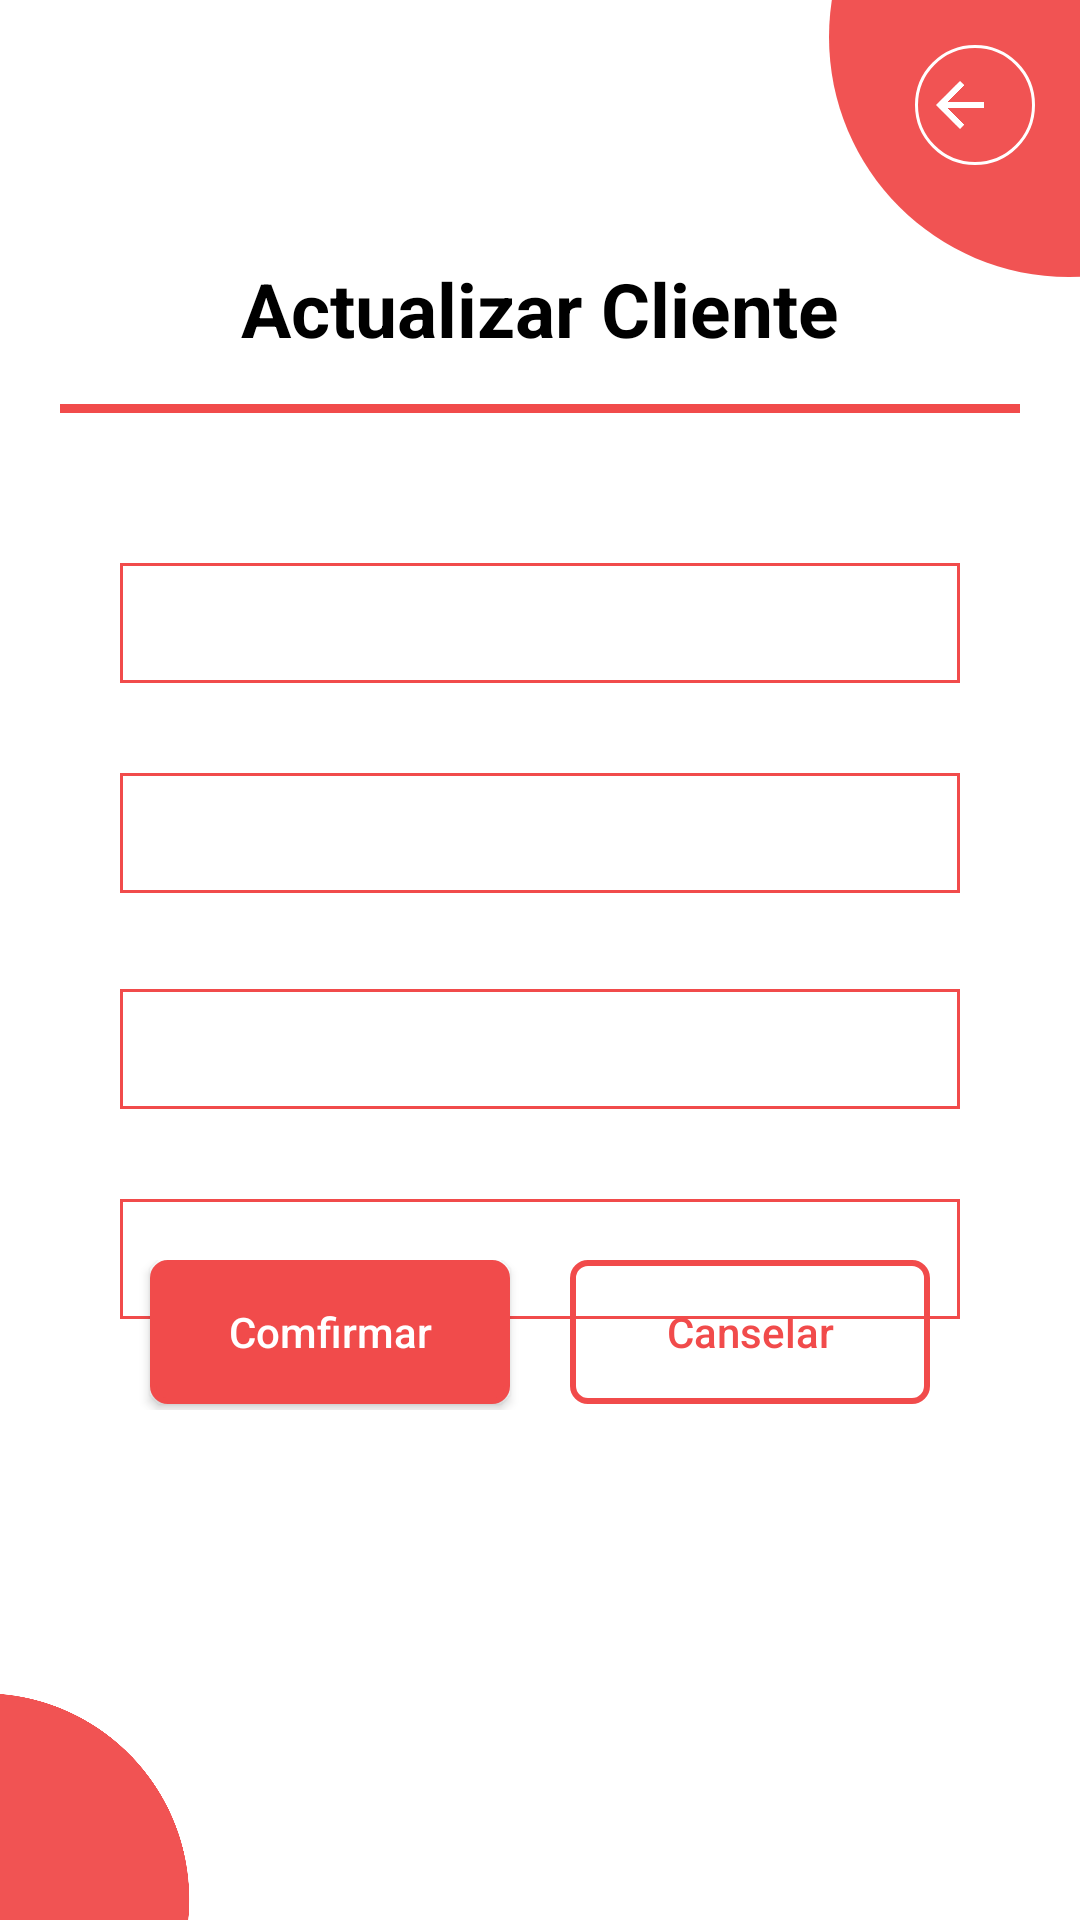

Icon bounding boxes for this 1080w x 1920h phone screenshot, format (x1, y1, x2, y2):
back: (915, 45, 1035, 165)
